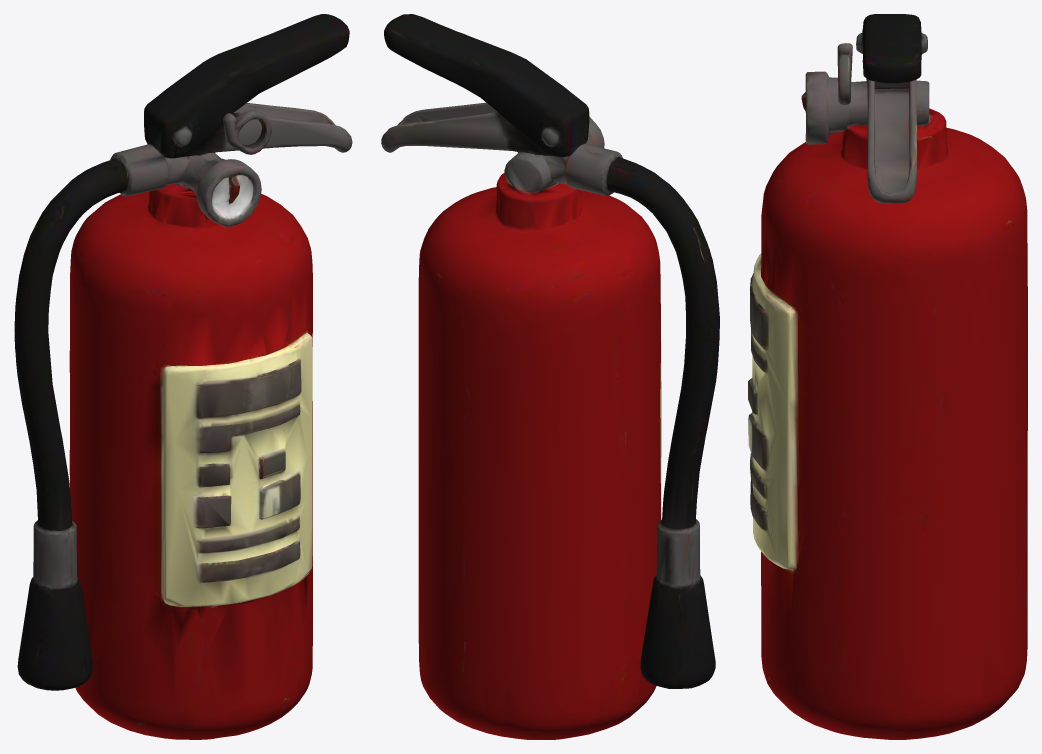
Rendered from fire_extinguisher.glb.
3 views of the same model, side by side, from view 1: azimuth 30°, elevation 25°; view 2: azimuth 150°, elevation 25°; view 3: azimuth 270°, elevation 25° (orthographic). The views are drawn at different scales.
Parts seen in each view (by area): view 1: geometry_0; view 2: geometry_0; view 3: geometry_0.
Boxes of the visible parts, bbox=[...] form: geometry_0: bbox=[14, 14, 352, 739]; geometry_0: bbox=[381, 14, 719, 739]; geometry_0: bbox=[748, 14, 1027, 739].
Size of the model in its own units: 0.529 by 1 by 0.3519.
1 material, 1 textured.
